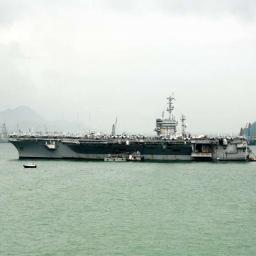Portanaves: (8, 92, 256, 164)
